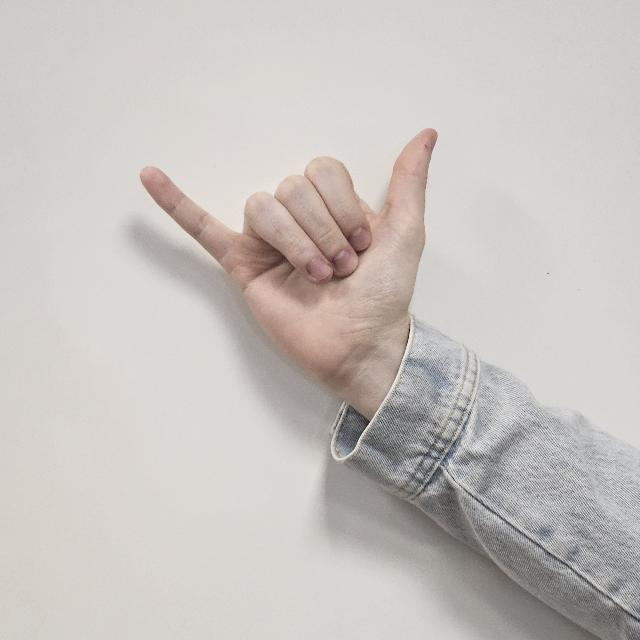Direita: (133, 126, 449, 420)
